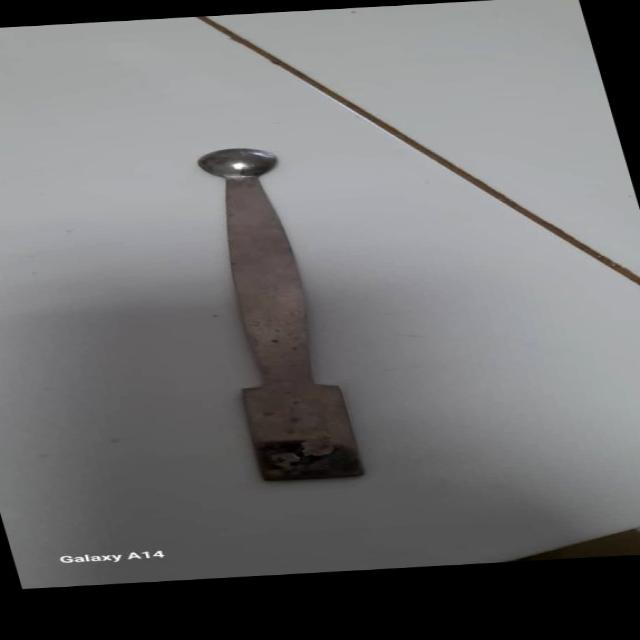Spatula: (154, 141, 393, 491)
